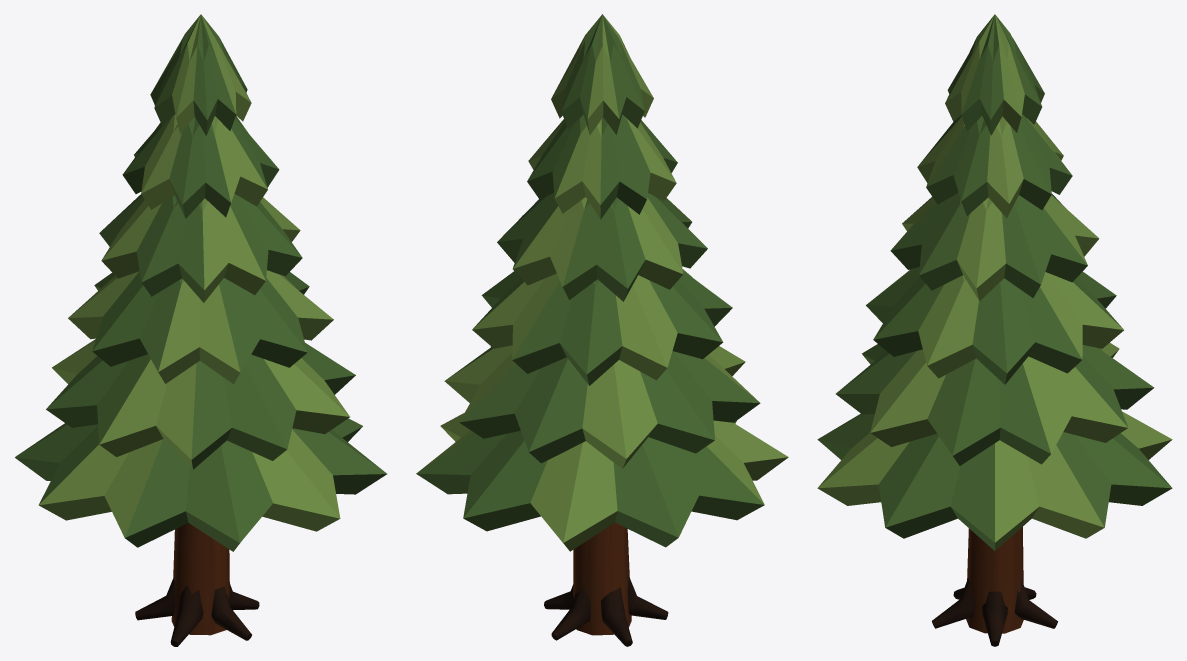
3 renders of one model, left to right at view 1: azimuth 30°, elevation 25°; view 2: azimuth 150°, elevation 25°; view 3: azimuth 270°, elevation 25°, orthographic.
Visible parts, largest first — view 1: HarvestableTree; view 2: HarvestableTree; view 3: HarvestableTree.
Part boxes in pixels (bbox=[...]): HarvestableTree: bbox=[15, 14, 386, 646]; HarvestableTree: bbox=[416, 14, 788, 646]; HarvestableTree: bbox=[817, 14, 1172, 646].
Bounding box in the file's own units: 2.9 × 5.2 × 2.76.
Materials: 5 (2 with a texture image).
